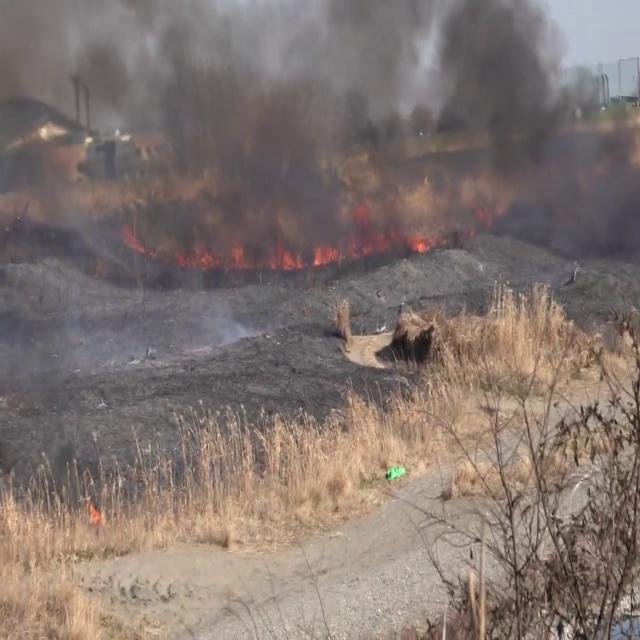Smoke: (2, 0, 611, 253)
